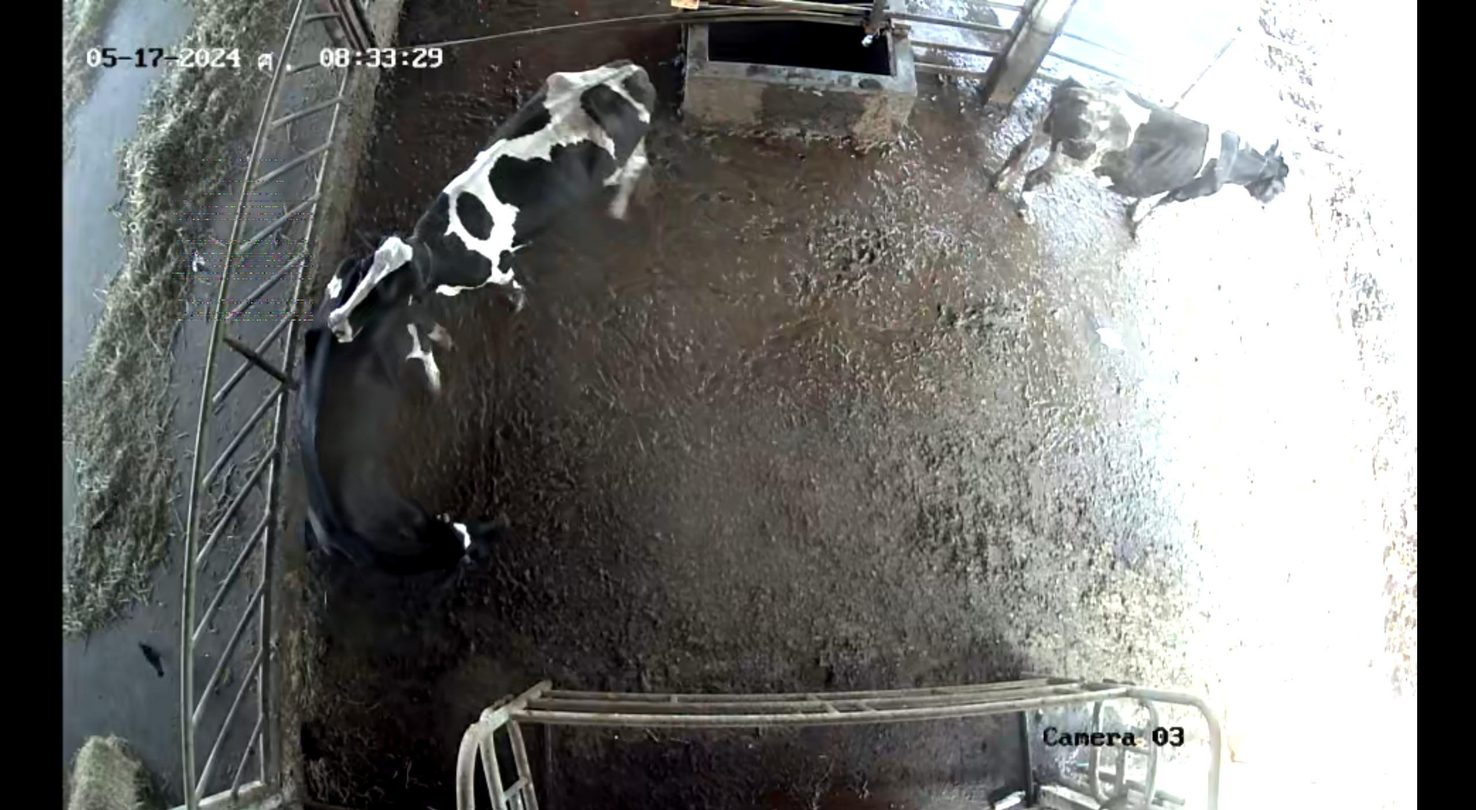propping: (310, 212, 437, 386)
stand: (288, 294, 513, 601), (1002, 61, 1298, 266)
